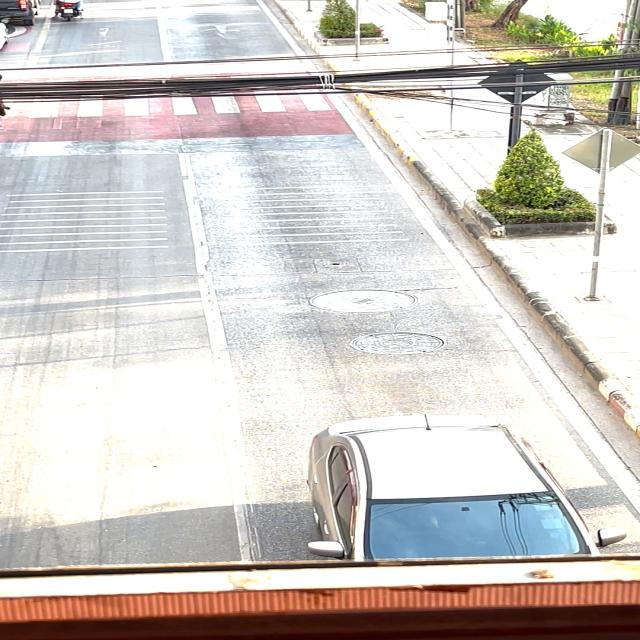car: (255, 368, 639, 562)
